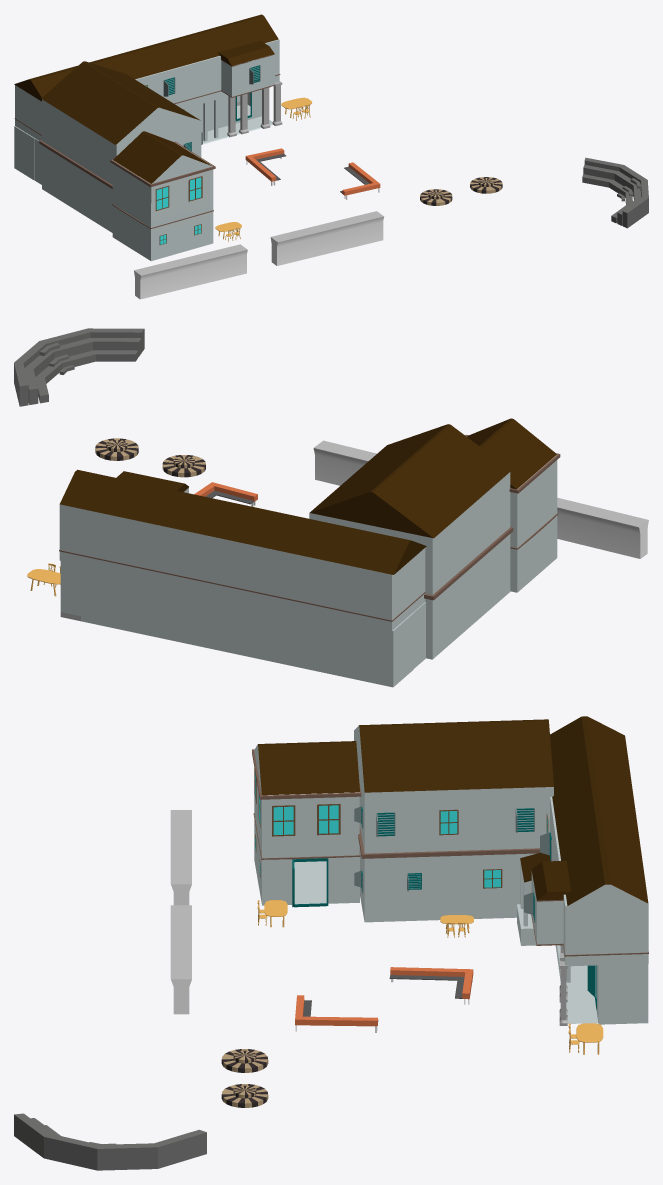
File: Britain.glb
3 views of the same model, one above another, from view 1: azimuth 30°, elevation 25°; view 2: azimuth 150°, elevation 25°; view 3: azimuth 270°, elevation 25° (orthographic). The views are drawn at different scales.
Visible parts, largest first — view 1: polySurface22; view 2: polySurface22; view 3: polySurface22.
Part boxes in pixels (box(x1,y1,x2,y2)): polySurface22: box(14, 14, 648, 299); polySurface22: box(14, 328, 648, 687); polySurface22: box(14, 716, 648, 1170).
Size of the model in its own units: 22.57 by 5.56 by 18.06.
